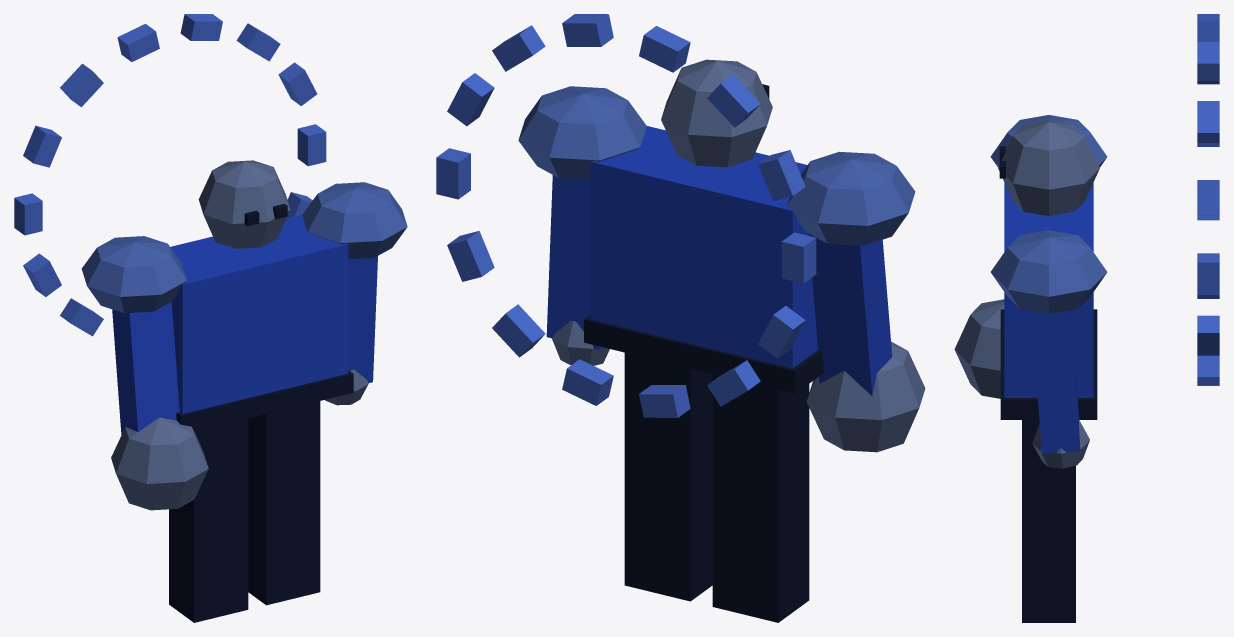
File: SM_Champion_9031_Umbra.glb
3 renders of one model, left to right at view 1: azimuth 30°, elevation 25°; view 2: azimuth 150°, elevation 25°; view 3: azimuth 270°, elevation 25°, orthographic. The views are drawn at different scales.
Visible parts, largest first — view 1: SM_Champion_9031_Umbra; view 2: SM_Champion_9031_Umbra; view 3: SM_Champion_9031_Umbra.
Boxes of the visible parts, left/top/right/bottom form: SM_Champion_9031_Umbra: left=14, top=14, right=407, bottom=622; SM_Champion_9031_Umbra: left=436, top=14, right=925, bottom=622; SM_Champion_9031_Umbra: left=954, top=14, right=1219, bottom=622.
Bounding box in the file's own units: 1.5 × 2.37 × 1.02.
